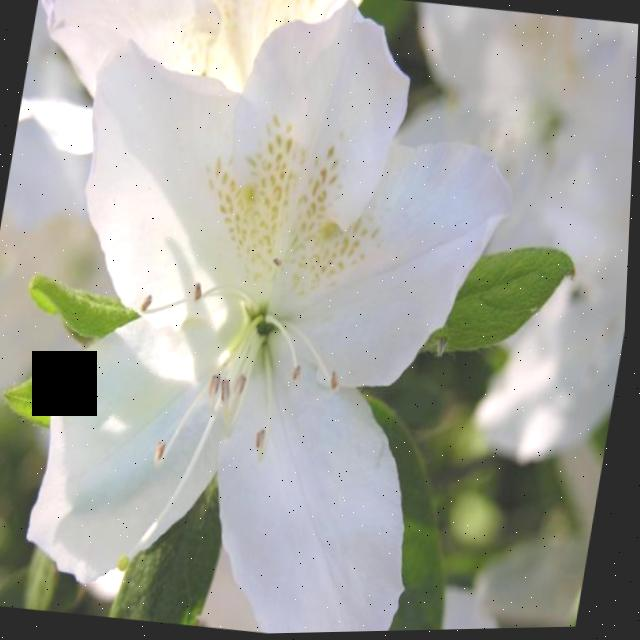azalea: (0, 5, 531, 640)
